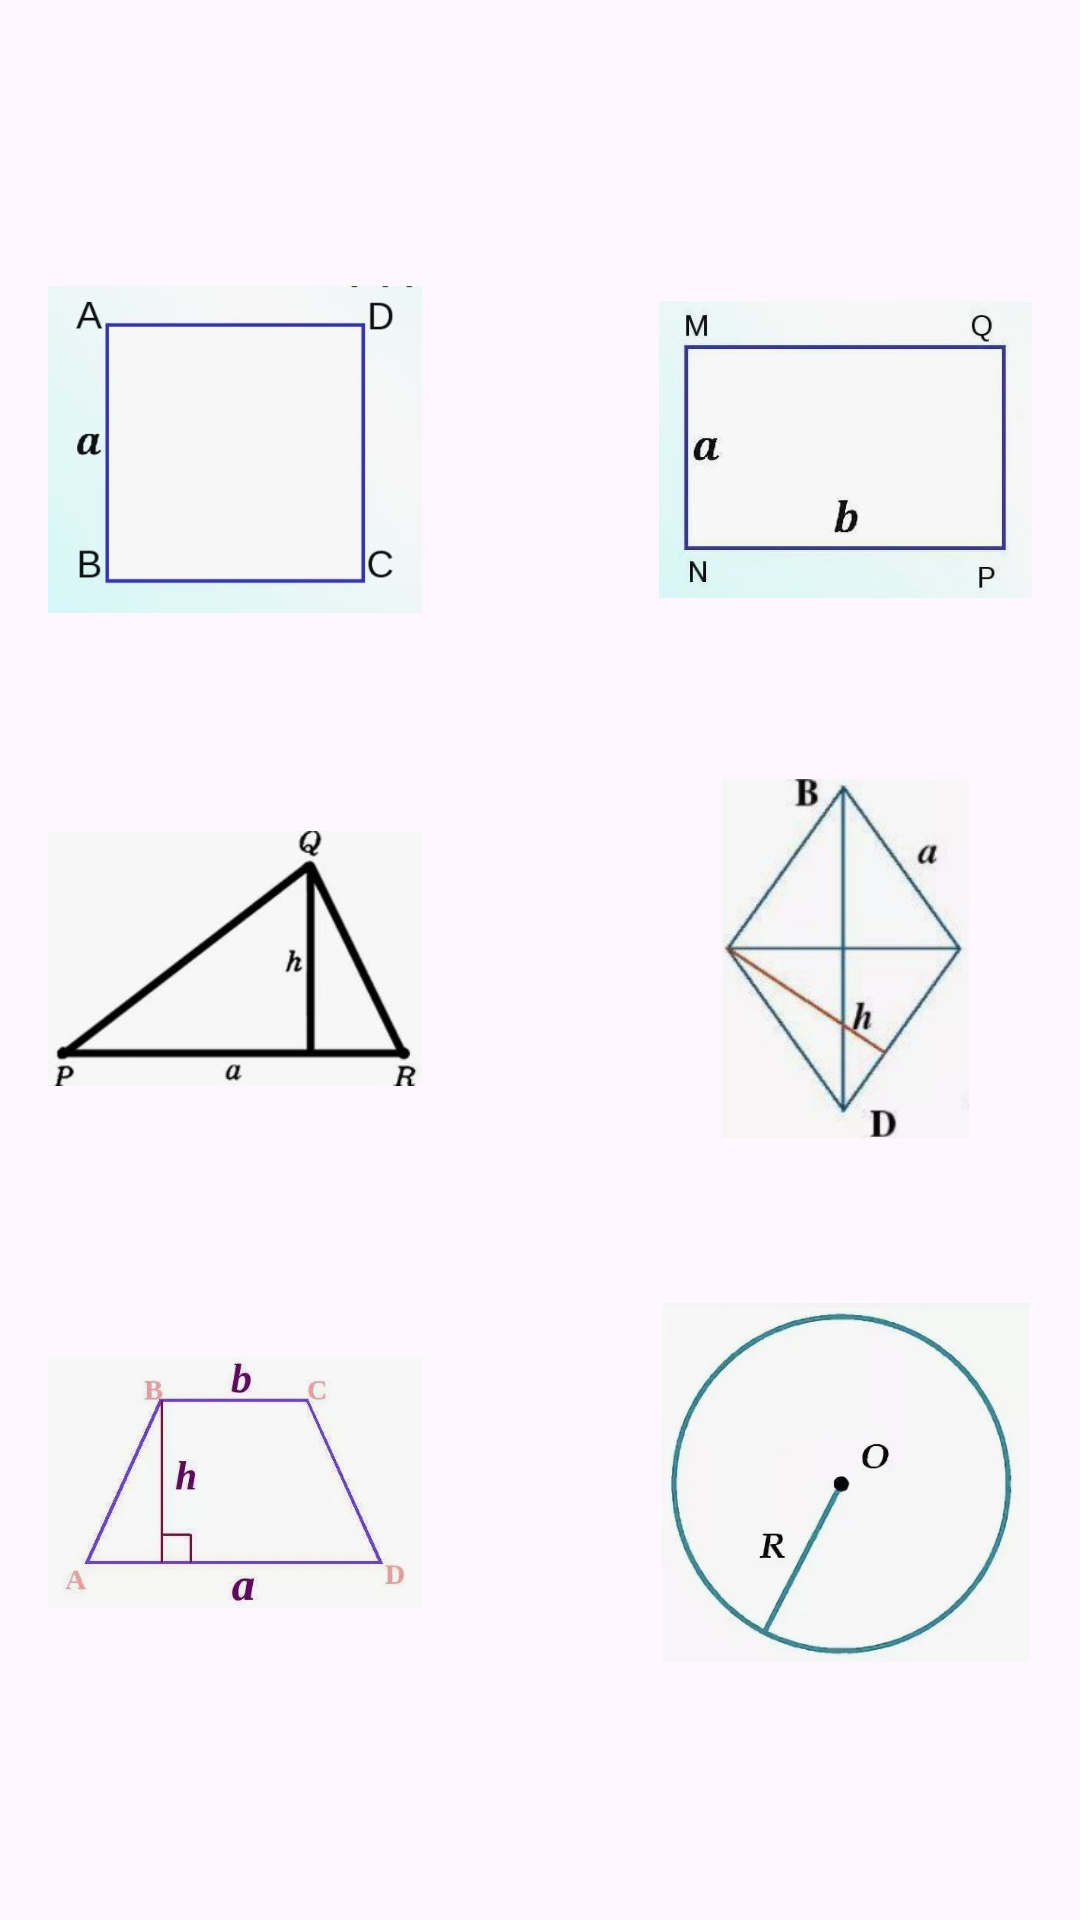

Icons on this 1080x1920 Android screen, each with the point to tap as (x,y):
rhomb: (845,958)
trapezoid: (235,1484)
